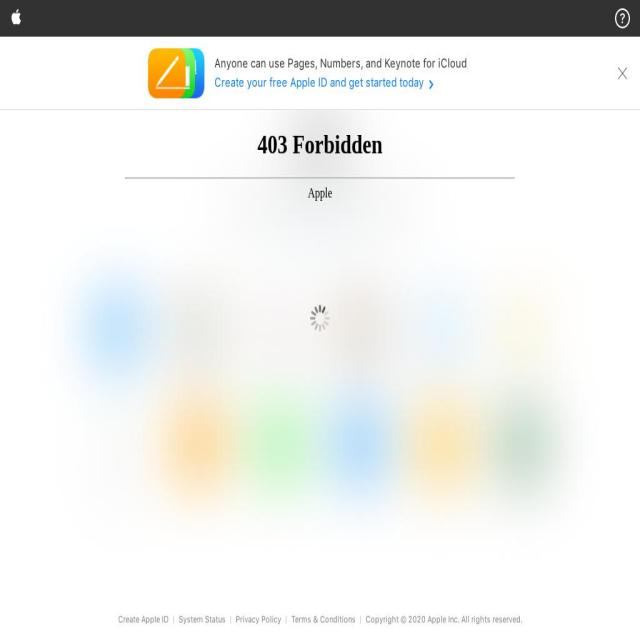button: (214, 72, 467, 92), (615, 54, 630, 92)
iframe: (120, 122, 520, 522)
image: (225, 192, 415, 218), (291, 102, 349, 178), (148, 48, 186, 98), (157, 48, 195, 98), (167, 48, 204, 98), (276, 228, 364, 244), (306, 300, 327, 328), (419, 370, 464, 383), (419, 485, 464, 498), (501, 485, 545, 498), (615, 54, 630, 92), (97, 485, 137, 498), (263, 370, 296, 383), (263, 485, 296, 498), (182, 370, 214, 383), (346, 485, 376, 498), (11, 0, 21, 37), (11, 0, 21, 37), (348, 370, 373, 383), (615, 8, 630, 28), (187, 485, 210, 498), (512, 370, 534, 383), (424, 76, 439, 92), (110, 370, 124, 383)
link: (290, 614, 356, 625), (118, 614, 168, 625), (178, 614, 226, 625), (235, 614, 281, 625)
text: (214, 55, 467, 71), (214, 74, 424, 90), (365, 614, 523, 625), (168, 614, 179, 625), (225, 614, 236, 625), (355, 614, 366, 625), (281, 614, 291, 625)
